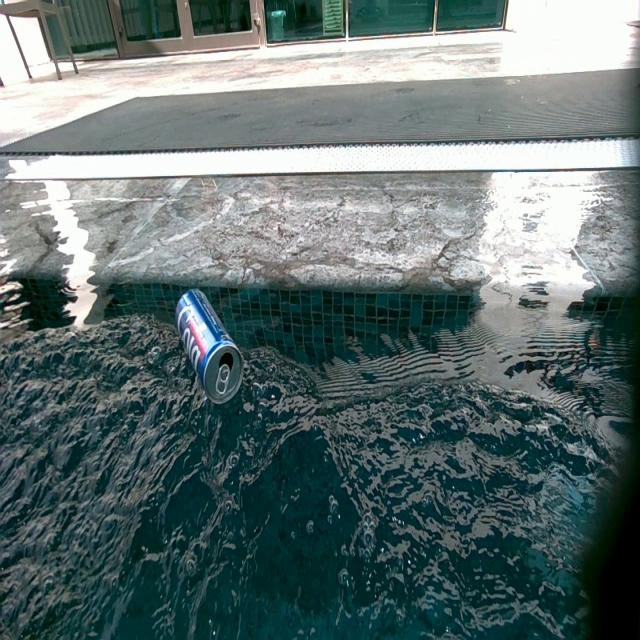Cans: (176, 289, 248, 412)
